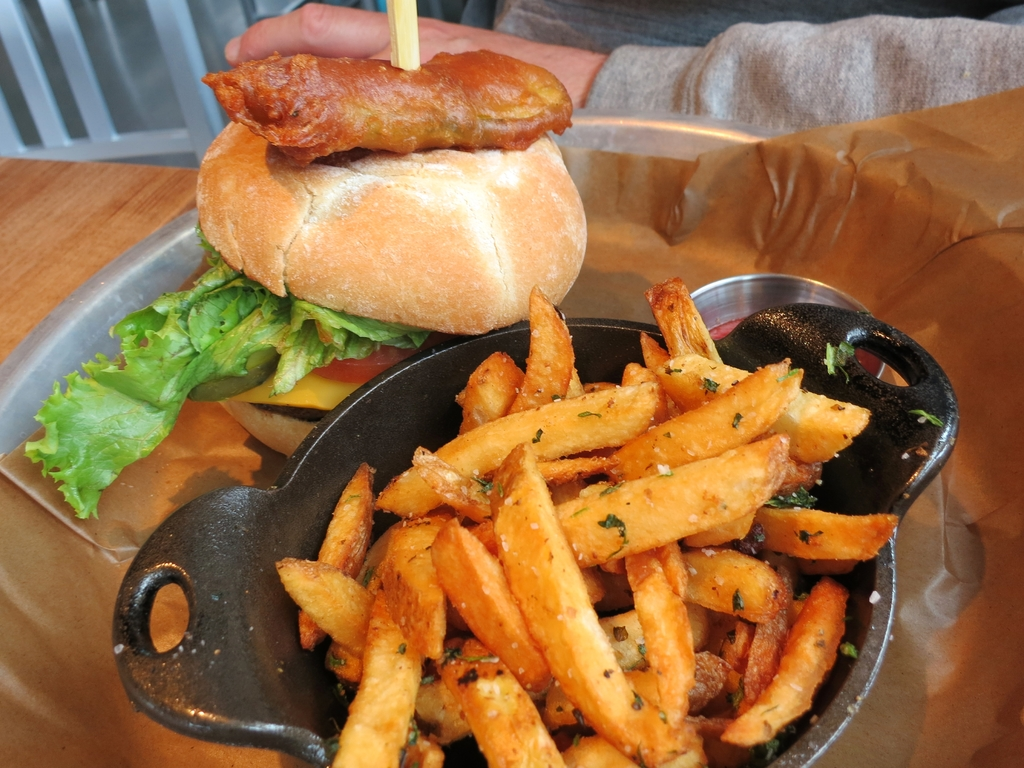French fries: (274, 270, 906, 767)
